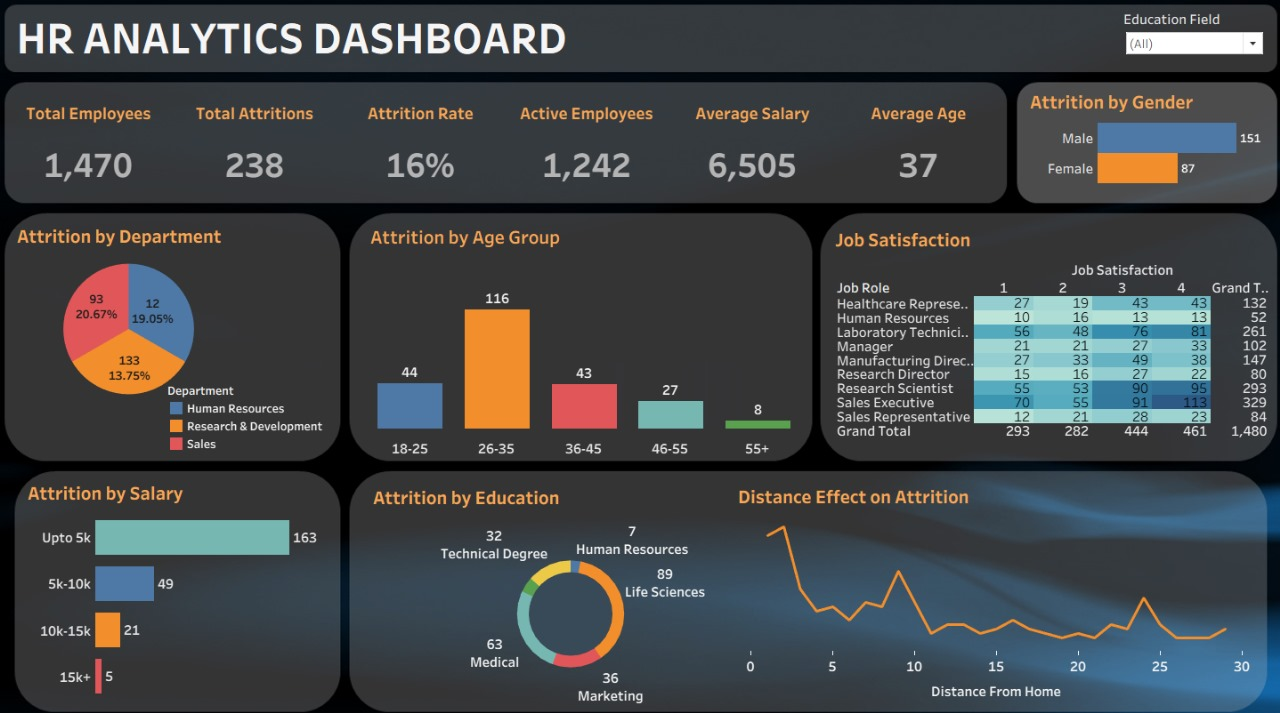

The page's visual inventory and layout, read from the dashboard file:
{"tool":"tableau","page":{"name":"HR Analytics Dashboard","canvas":[1570,840],"ordinal":0},"visuals":[{"type":"image","param":"Image/Presentation1.png","box":[8,8,1554,824]},{"type":"text","box":[80,20,638,75]},{"type":"filter","title":"Attrition by department","param":"[federated.0clymvq1kvmcx419c5rgi10m3mon].[none:EducationField:nk]","box":[1327,28,160,62]},{"type":"worksheet","title":"Attrition By Gender","mark":"Automatic","rows":["Gender"],"cols":["Calculation_787567034253451264"],"box":[1218,113,276,129]},{"type":"worksheet","title":"KPI","mark":"Automatic","box":[71,116.2,1119,129.9]},{"type":"worksheet","title":"Attrition by department","mark":"Pie","box":[80,264,259,204]},{"type":"worksheet","title":"Attrition by Age Group","mark":"Automatic","rows":["Calculation_787567034253451264"],"cols":["AgeGroup"],"box":[477,265,488,263]},{"type":"worksheet","title":"Employee Rating","mark":"Square","rows":["JobRole"],"cols":["JobSatisfaction"],"box":[999,268,493,241]},{"type":"legend","title":"Attrition by department","param":"[federated.0clymvq1kvmcx419c5rgi10m3mon].[none:Department:nk]","box":[253,447.4,198,83]},{"type":"worksheet","title":"Attrition by Salary","mark":"Automatic","rows":["SalarySlab"],"cols":["Calculation_787567034253451264"],"box":[92,553,345,251]},{"type":"worksheet","title":"Distance from Home","mark":"Automatic","rows":["Calculation_787567034253451264"],"cols":["DistanceFromHome"],"box":[890,557.4,588,255]},{"type":"worksheet","title":"Attrition by Education","mark":"Pie","rows":["Calculation_787567034293968903","Calculation_787567034293968903"],"box":[480,558.4,452,256.9]},{"type":"legend","title":"Attrition by Education","param":"[federated.0clymvq1kvmcx419c5rgi10m3mon].[sum:Calculation_787567034253451264:qk]","box":[1013,558.4,140,87]}]}

Visuals, with their boxes on the page's 1570x840 design canvas (x1, y1, x2, y2). These are canvas units, not pixel positions in the 1280x713 screenshot, which may show the page scaled, cropped or inside an application window:
image: select_region(8, 8, 1562, 832)
text: select_region(80, 20, 718, 95)
"Attrition by department" filter: select_region(1327, 28, 1487, 90)
"Attrition By Gender" worksheet: select_region(1218, 113, 1494, 242)
"KPI" worksheet: select_region(71, 116, 1190, 246)
"Attrition by department" worksheet (Pie marks): select_region(80, 264, 339, 468)
"Attrition by Age Group" worksheet: select_region(477, 265, 965, 528)
"Employee Rating" worksheet (Square marks): select_region(999, 268, 1492, 509)
"Attrition by department" legend: select_region(253, 447, 451, 530)
"Attrition by Salary" worksheet: select_region(92, 553, 437, 804)
"Distance from Home" worksheet: select_region(890, 557, 1478, 812)
"Attrition by Education" worksheet (Pie marks): select_region(480, 558, 932, 815)
"Attrition by Education" legend: select_region(1013, 558, 1153, 645)
